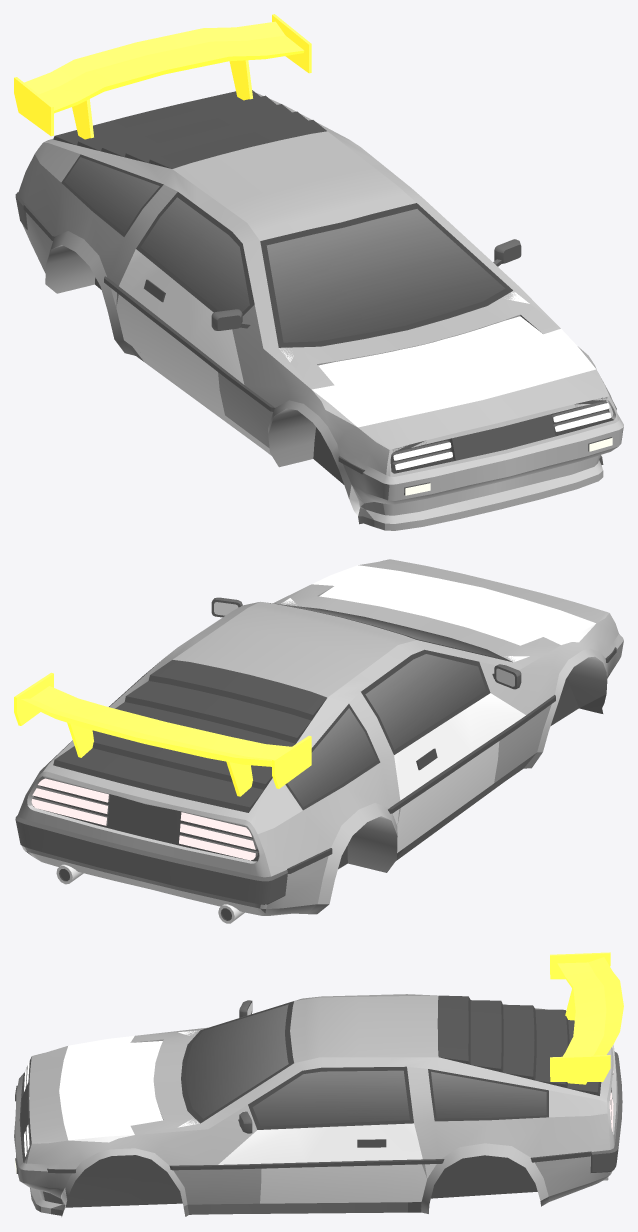
The model's file is future.glb.
3 renders of one model, top to bottom at view 1: azimuth 30°, elevation 25°; view 2: azimuth 150°, elevation 25°; view 3: azimuth 270°, elevation 25°, orthographic. The views are drawn at different scales.
Parts seen in each view (by area): view 1: body, frame, spoiler; view 2: body, frame, spoiler; view 3: body, frame, spoiler.
Boxes of the visible parts, left/top/right/bottom form: body: left=15, top=90, right=616, bottom=526; frame: left=18, top=93, right=623, bottom=530; spoiler: left=14, top=14, right=311, bottom=139; body: left=15, top=565, right=616, bottom=923; frame: left=18, top=559, right=623, bottom=915; spoiler: left=14, top=672, right=311, bottom=796; body: left=15, top=995, right=622, bottom=1216; frame: left=14, top=994, right=618, bottom=1216; spoiler: left=550, top=952, right=623, bottom=1084.
Size of the model in its own units: 2.34 by 1.47 by 4.94.
Materials: 4 (2 with a texture image).
